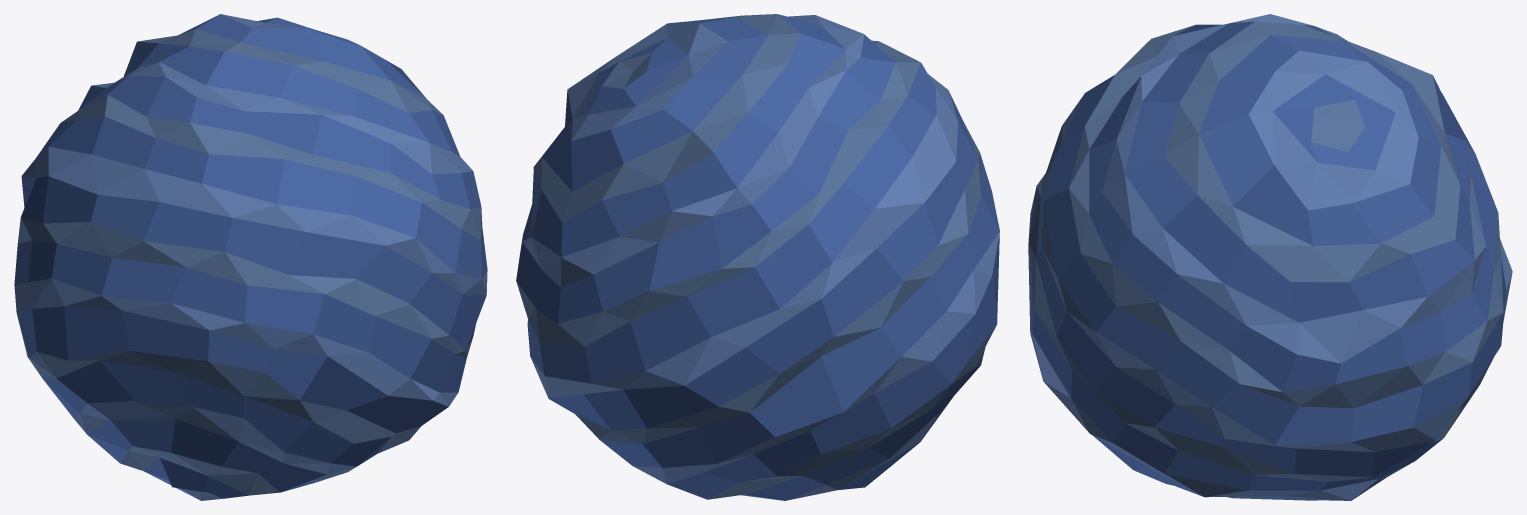
File: Neptune.fbx
The picture shows the model from 3 angles, left to right: view 1: azimuth 30°, elevation 25°; view 2: azimuth 150°, elevation 25°; view 3: azimuth 270°, elevation 25°; orthographic projection. The views are drawn at different scales.
Visible parts, largest first — view 1: Neptune; view 2: Neptune; view 3: Neptune.
Part boxes in pixels (bbox=[...]): Neptune: bbox=[14, 14, 487, 500]; Neptune: bbox=[516, 14, 999, 500]; Neptune: bbox=[1028, 14, 1512, 500].
Size of the model in its own units: 313 by 307 by 302.
